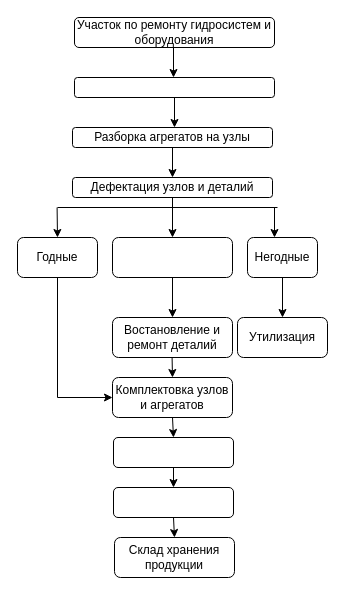
The diagram is 345 pixels wide and 595 high, and some of its shapes have lost their labels. Here are the shapes that lost their labels. From the top down, the centre of each, then its label:
At point 174,87: "Мойка агрегатов и узлов".
At point 172,257: "Детали требующие востановления и ремонта".
At point 173,452: "Сборка узлов и агрегатов".
At point 173,502: "Испытание узлов и деталий".
